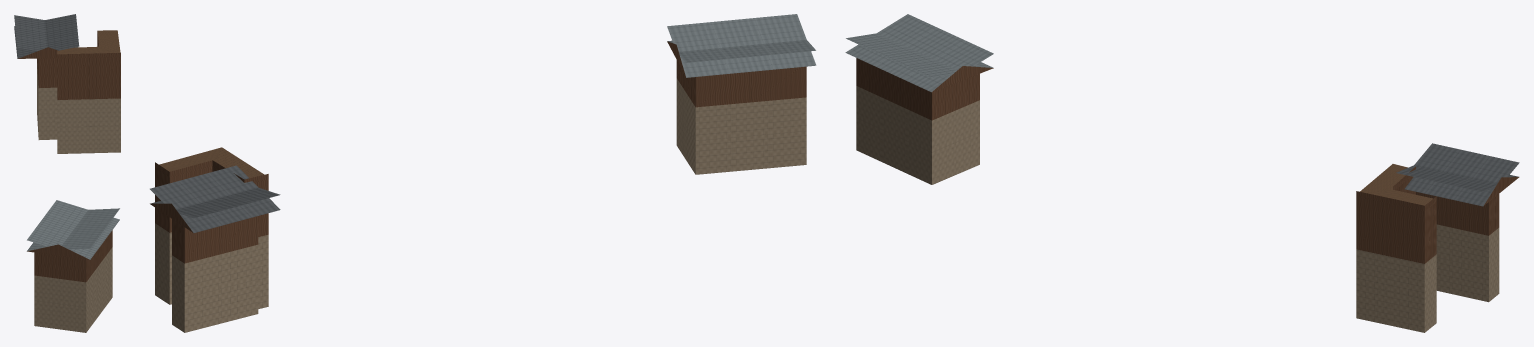
The model's file is bld_c1_17_471.gltf.
3 renders of one model, left to right at view 1: azimuth 30°, elevation 25°; view 2: azimuth 150°, elevation 25°; view 3: azimuth 270°, elevation 25°, orthographic. The views are drawn at different scales.
Visible parts, largest first — view 1: bld_c1_17_471; view 2: bld_c1_17_471; view 3: bld_c1_17_471.
Boxes of the visible parts, x1,y1,x2,y2 form: bld_c1_17_471: (14, 14, 120, 332); bld_c1_17_471: (150, 14, 816, 332); bld_c1_17_471: (845, 14, 1519, 332).
Size of the model in its own units: 27.34 by 9.5 by 42.64.
Materials: 6 (6 with a texture image).
